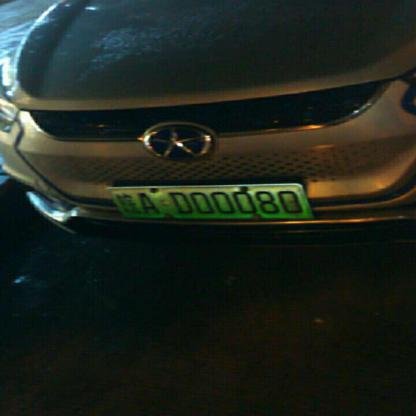lp: (109, 184, 313, 219)
